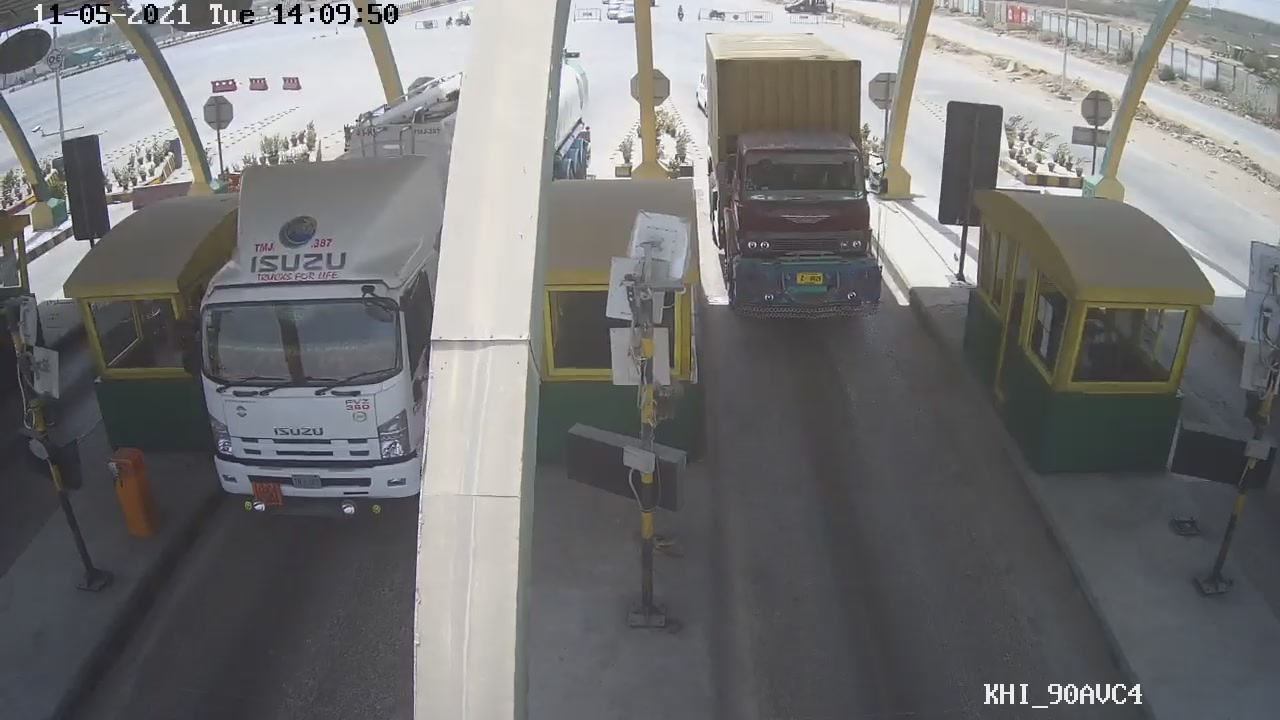F6: (702, 37, 887, 323)
